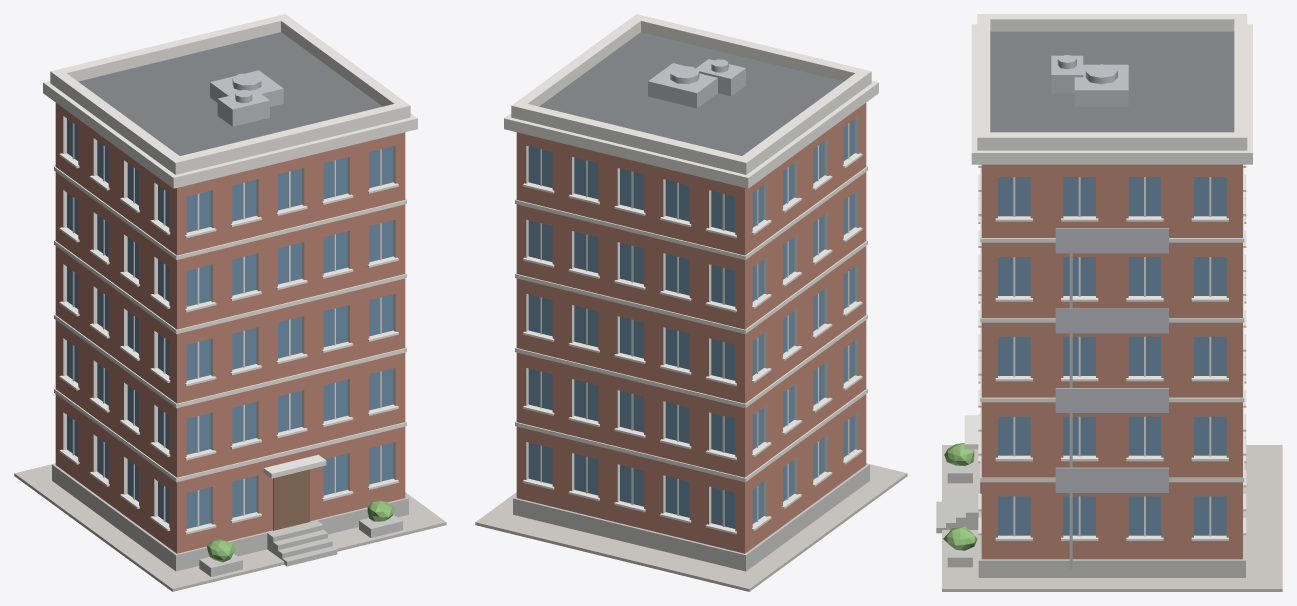
3 renders of one model, left to right at view 1: azimuth 30°, elevation 25°; view 2: azimuth 150°, elevation 25°; view 3: azimuth 270°, elevation 25°, orthographic. The views are drawn at different scales.
Parts seen in each view (by area): view 1: r_2_1_c; view 2: r_2_1_c; view 3: r_2_1_c.
Boxes of the visible parts, x1,y1,x2,y2 form: r_2_1_c: (14,14,446,591); r_2_1_c: (475,14,907,591); r_2_1_c: (936,14,1282,591).
Bounding box in the file's own units: 12 × 17.75 × 12.2.
